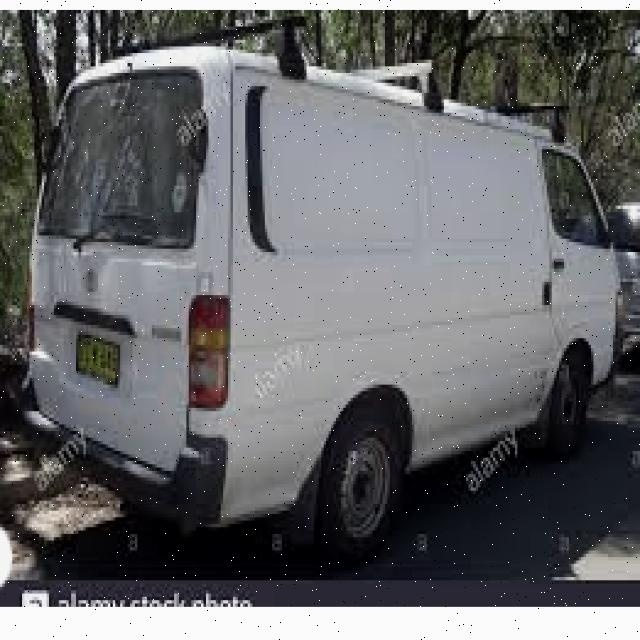Van: (27, 27, 620, 550)
